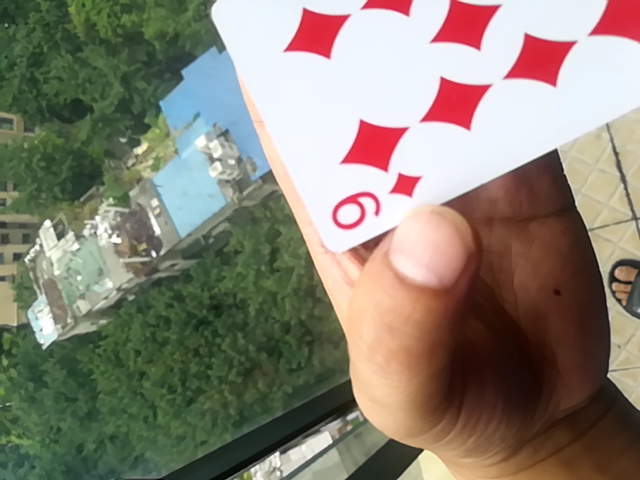fk 9: (199, 0, 640, 262)
